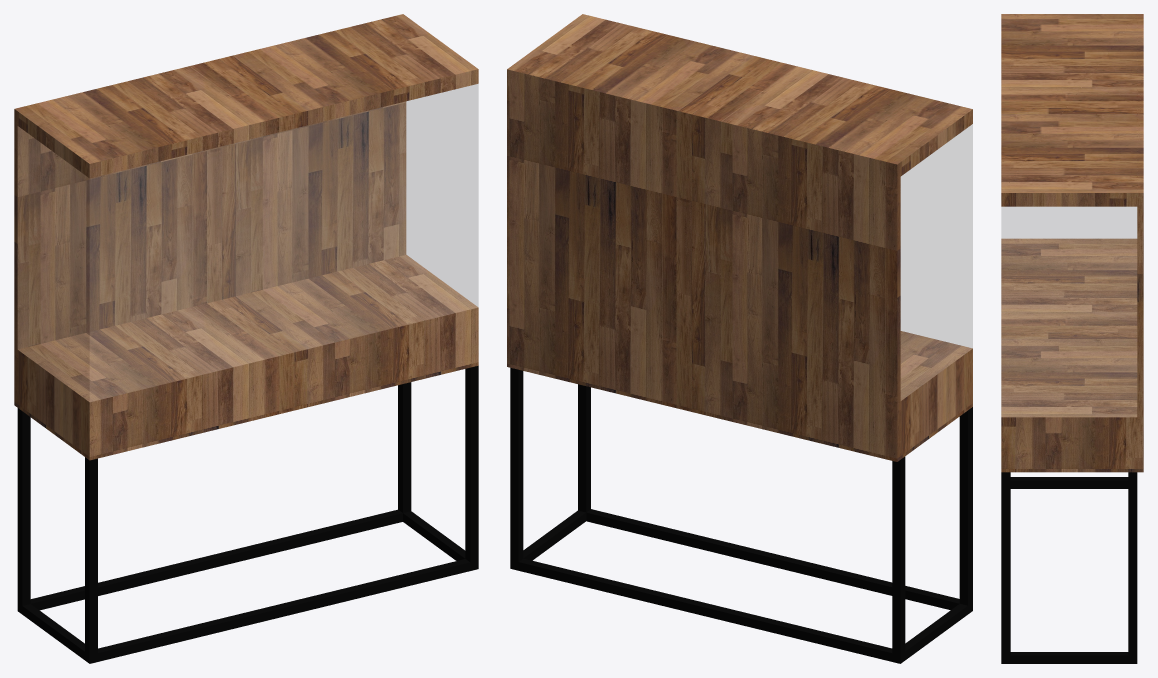
3 renders of one model, left to right at view 1: azimuth 30°, elevation 25°; view 2: azimuth 150°, elevation 25°; view 3: azimuth 270°, elevation 25°, orthographic. The views are drawn at different scales.
Visible parts, largest first — view 1: kaide2; view 2: kaide2; view 3: kaide2.
Boxes of the visible parts, box(x1,y1,x2,y2) form: kaide2: box(14, 14, 478, 663); kaide2: box(507, 14, 972, 663); kaide2: box(1001, 14, 1143, 663).
Bounding box in the file's own units: 1.4 × 1.72 × 0.47.
Materials: 3 (1 with a texture image).
